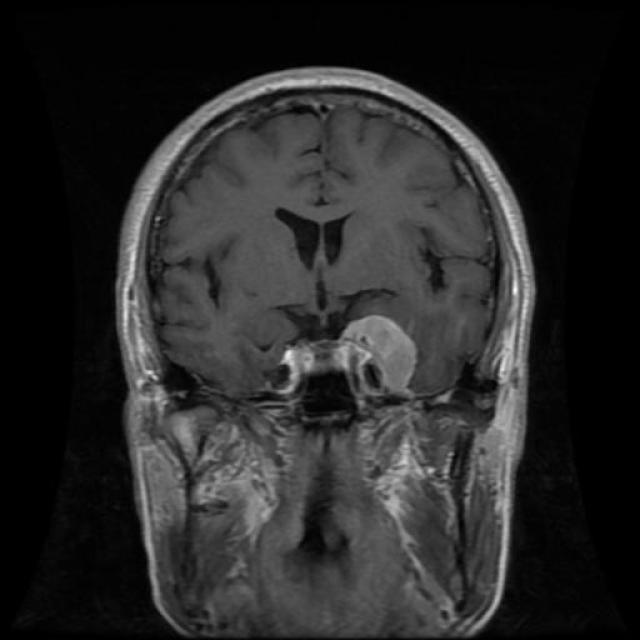meningioma: (340, 316, 418, 391)
